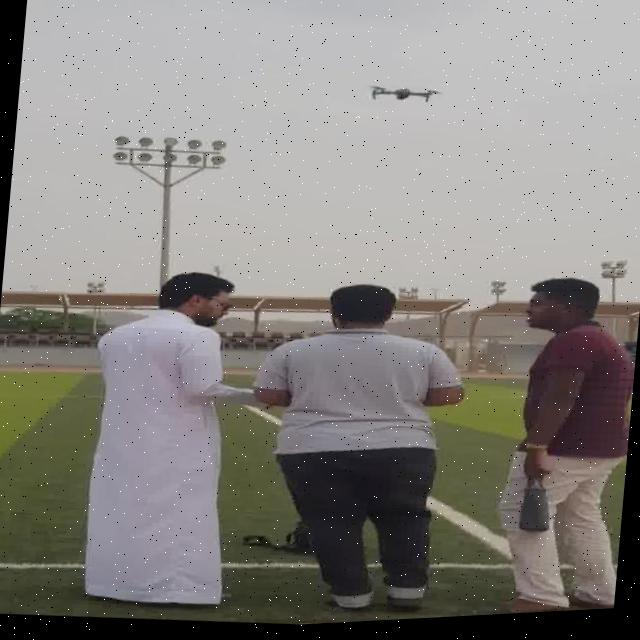drone: (358, 80, 444, 115)
